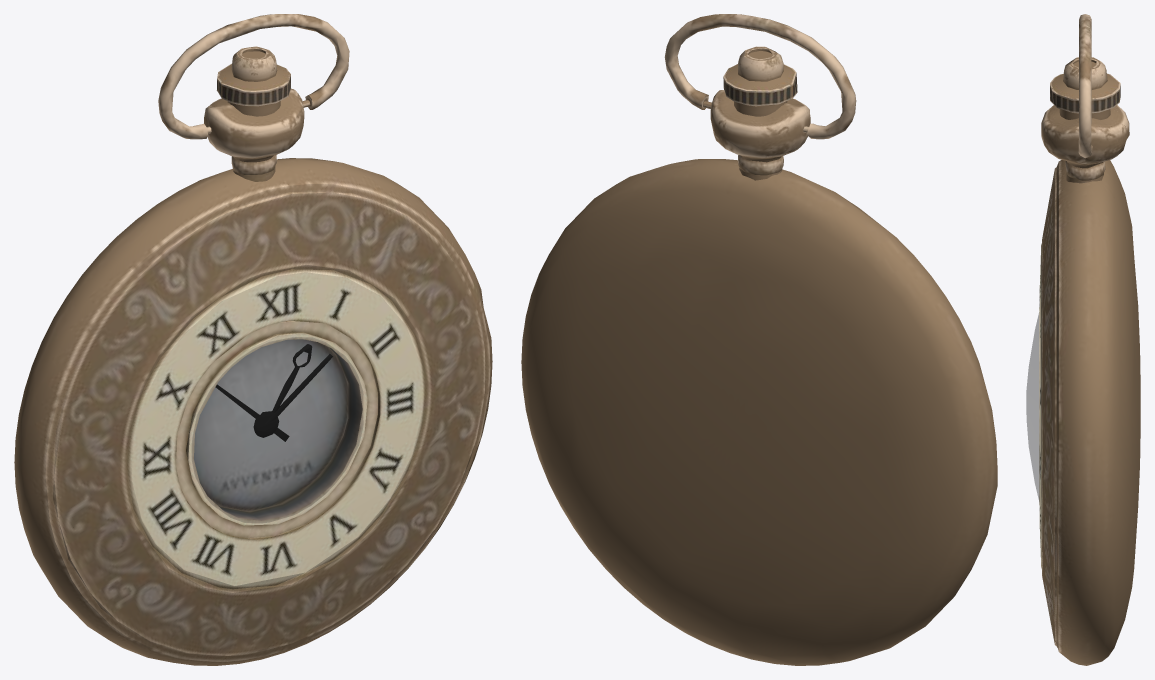
File: vintage_pocket_watch.glb
3 renders of one model, left to right at view 1: azimuth 30°, elevation 25°; view 2: azimuth 150°, elevation 25°; view 3: azimuth 270°, elevation 25°, orthographic. The views are drawn at different scales.
Visible parts, largest first — view 1: vintage_pocket_watch, vintage_pocket_watch_glass, vintage_pocket_watch_hands; view 2: vintage_pocket_watch; view 3: vintage_pocket_watch, vintage_pocket_watch_glass.
Part boxes in pixels (x1,y1,x2,y2): vintage_pocket_watch: (14, 14, 492, 665); vintage_pocket_watch_glass: (192, 337, 363, 522); vintage_pocket_watch_hands: (215, 344, 332, 441); vintage_pocket_watch: (521, 14, 997, 665); vintage_pocket_watch: (1039, 14, 1140, 665); vintage_pocket_watch_glass: (1026, 315, 1038, 498).
Bounding box in the file's own units: 0.0613 × 0.0799 × 0.0135.
Materials: 3 (1 with a texture image).
